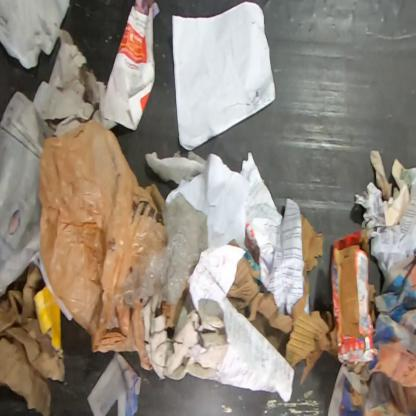cardboard: (330, 228, 380, 365), (284, 260, 338, 386), (227, 255, 292, 358), (300, 212, 323, 272), (369, 284, 380, 323), (225, 238, 242, 248)
soft_plastic: (38, 119, 168, 372), (123, 192, 209, 308), (0, 0, 71, 71), (161, 301, 177, 331)
